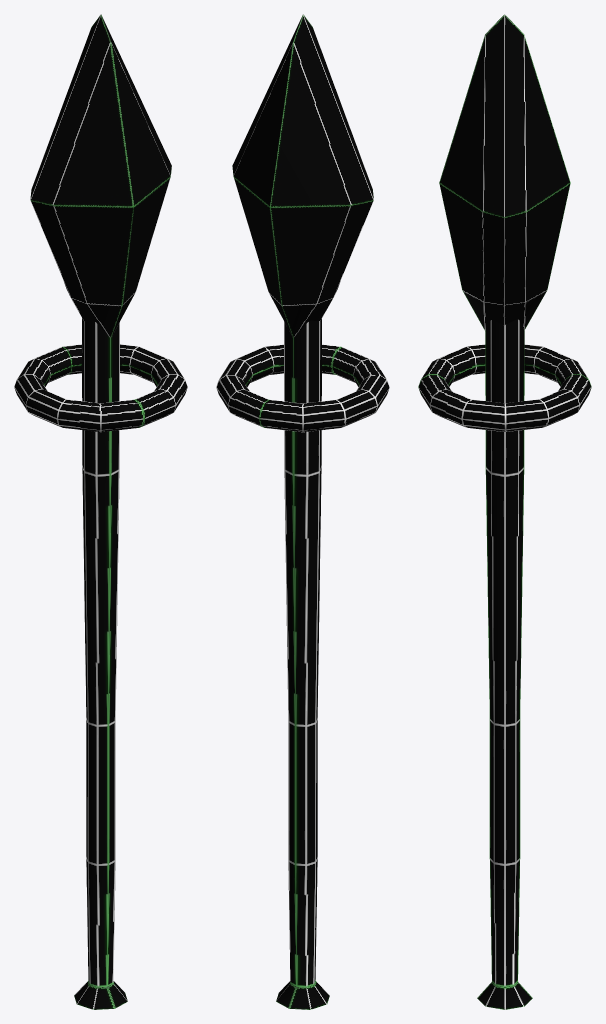
File: sd_character_angel_weapon.FBX
3 views of the same model, side by side, from view 1: azimuth 30°, elevation 25°; view 2: azimuth 150°, elevation 25°; view 3: azimuth 270°, elevation 25° (orthographic).
Visible parts, largest first — view 1: sd_character_angel_weapon; view 2: sd_character_angel_weapon; view 3: sd_character_angel_weapon.
Boxes of the visible parts, left/top/right/bottom form: sd_character_angel_weapon: left=14, top=14, right=187, bottom=1009; sd_character_angel_weapon: left=216, top=14, right=389, bottom=1009; sd_character_angel_weapon: left=418, top=14, right=591, bottom=1009.
Size of the model in its own units: 12.92 by 80.83 by 12.92.
Materials: 1 (1 with a texture image).
